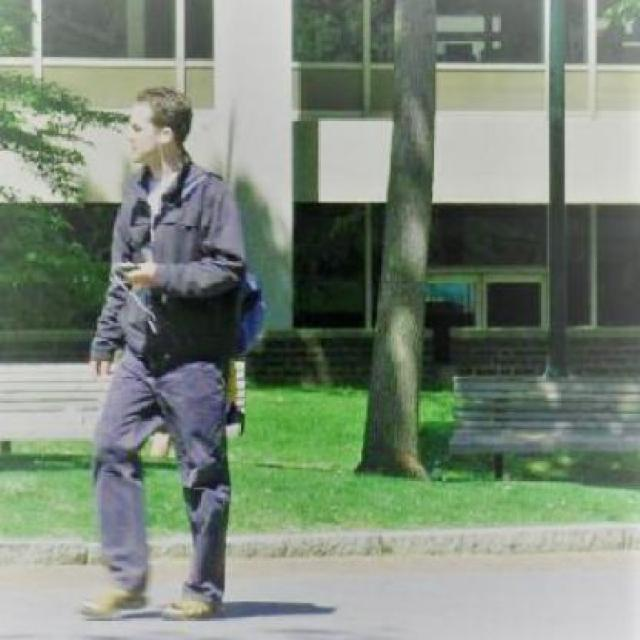Person: (79, 81, 248, 622)
